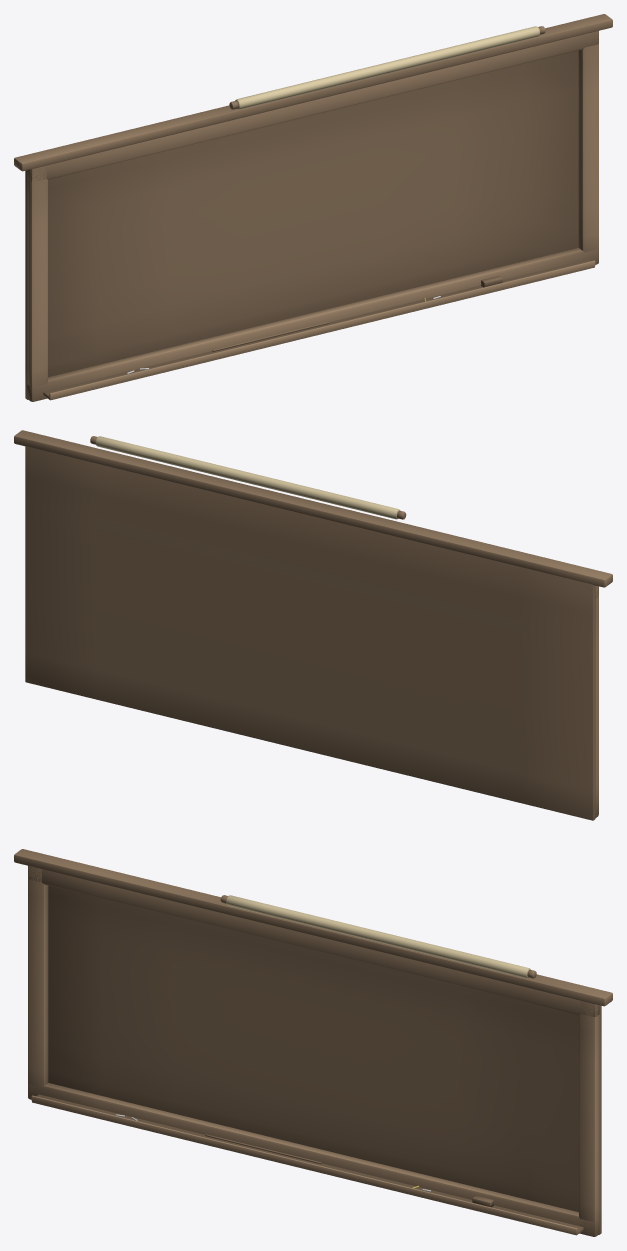
Rendered from obj_kit_wallboard.glb.
3 views of the same model, one above another, from view 1: azimuth 30°, elevation 25°; view 2: azimuth 150°, elevation 25°; view 3: azimuth 330°, elevation 25° (orthographic).
Visible parts, largest first — view 1: Cube, Cube.003, Cube.001, Cube.005, Cube.002, Cube.004, Cube.007, Cylinder.005, Cube.006; view 2: Cube, Cube.005, Cylinder.005, Cube.002; view 3: Cube, Cube.003, Cube.001, Cube.005, Cube.004, Cube.002, Cube.007, Cylinder.005, Cube.006.
Boxes of the visible parts, x1,y1,x2,y2 form: Cube: [25, 50, 578, 399]; Cube.003: [27, 31, 598, 181]; Cube.001: [27, 248, 598, 401]; Cube.005: [14, 14, 612, 171]; Cube.002: [27, 165, 47, 400]; Cube.004: [578, 32, 598, 264]; Cube.007: [49, 260, 595, 398]; Cylinder.005: [235, 26, 539, 109]; Cube.006: [43, 259, 594, 400]; Cube: [25, 446, 595, 820]; Cube.005: [14, 430, 612, 587]; Cylinder.005: [95, 436, 400, 519]; Cube.002: [595, 586, 598, 815]; Cube: [48, 885, 601, 1234]; Cube.003: [28, 866, 599, 1016]; Cube.001: [28, 1083, 599, 1236]; Cube.005: [14, 849, 612, 1006]; Cube.004: [579, 1000, 599, 1235]; Cube.002: [28, 866, 48, 1099]; Cube.007: [31, 1095, 577, 1233]; Cylinder.005: [226, 895, 530, 978]; Cube.006: [32, 1094, 583, 1235].
Bounding box in the file's own units: 5.1 × 2.11 × 0.206.
